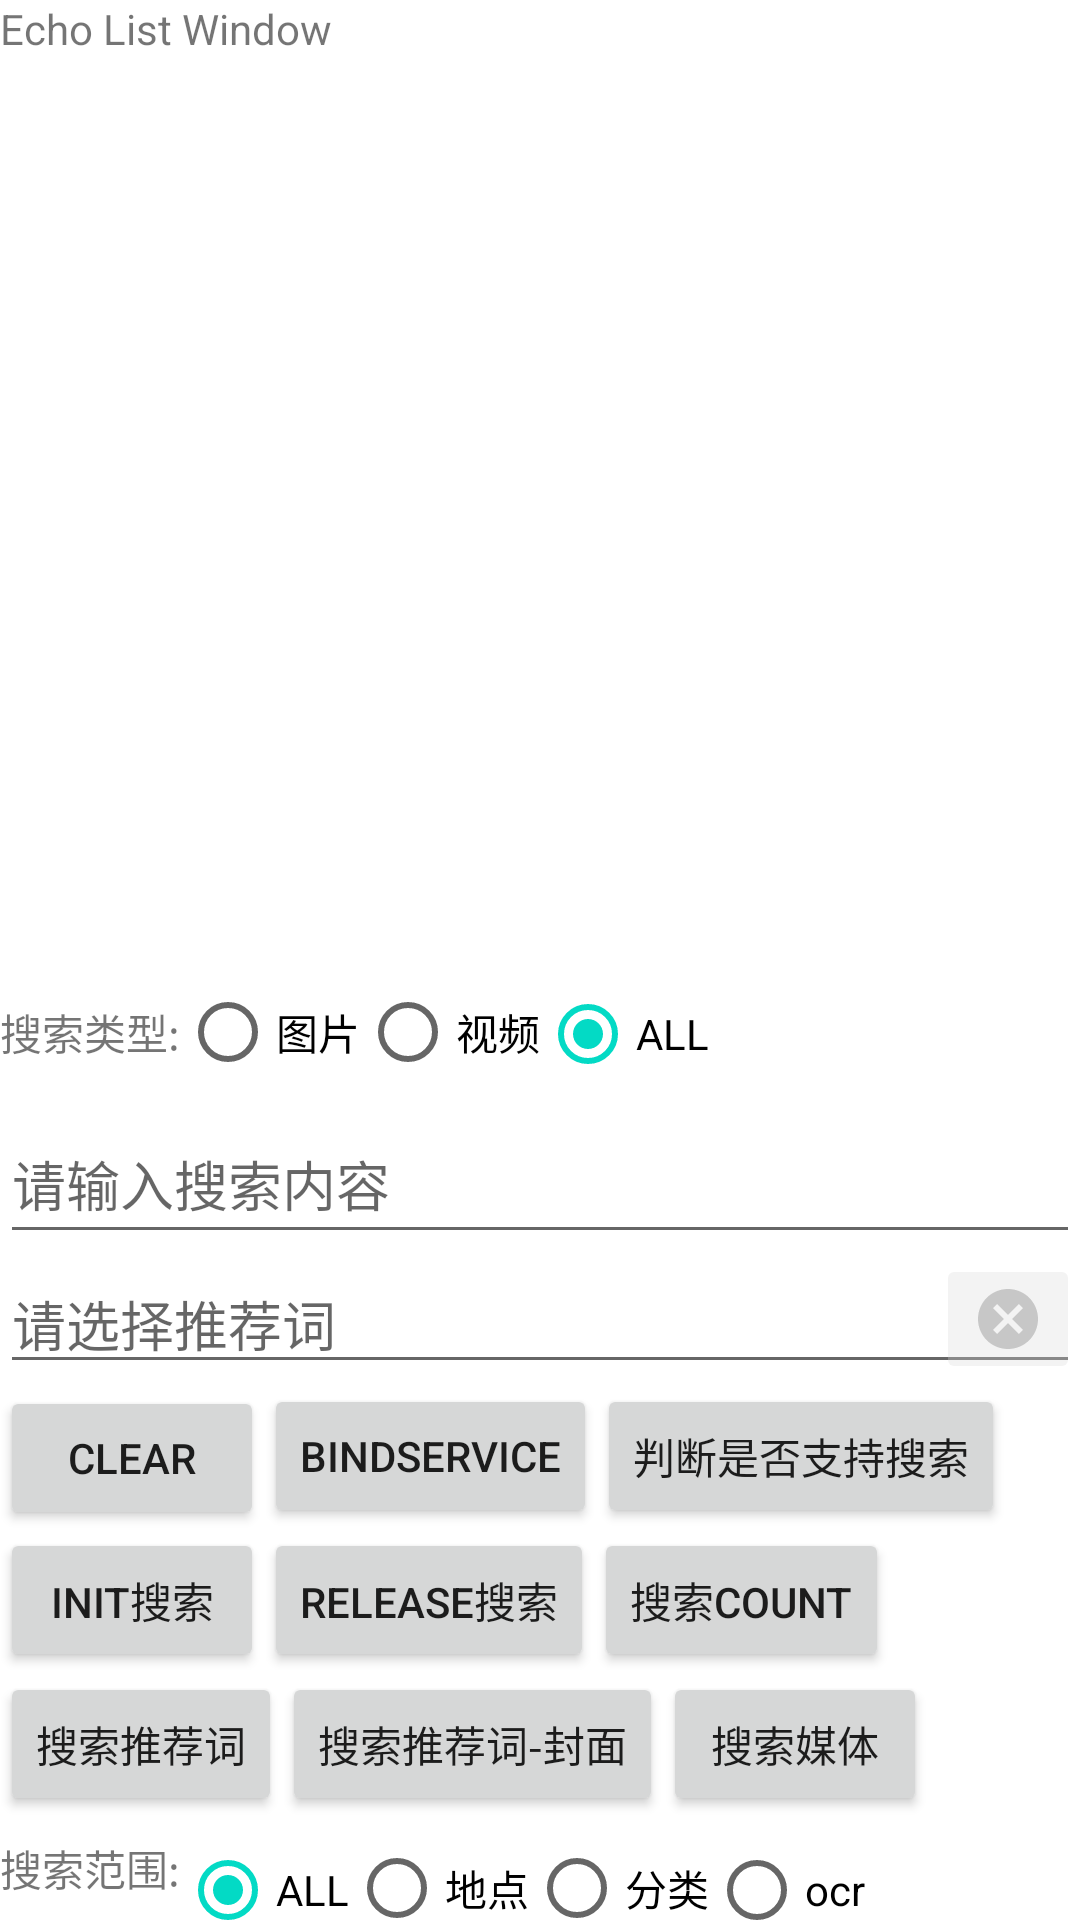

Where icons sit on this 1080px x 1920px app screen, as (x1, y1, x2, y2):
cancel: (978, 1289, 1038, 1349)
